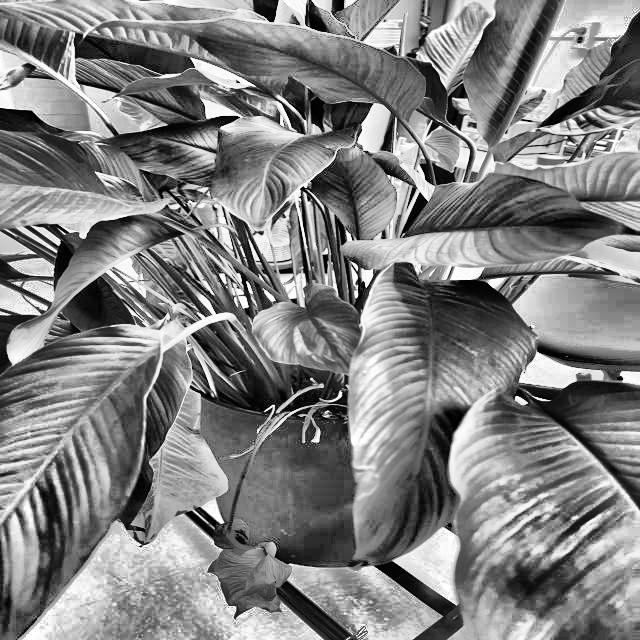plants: (41, 19, 640, 420)
